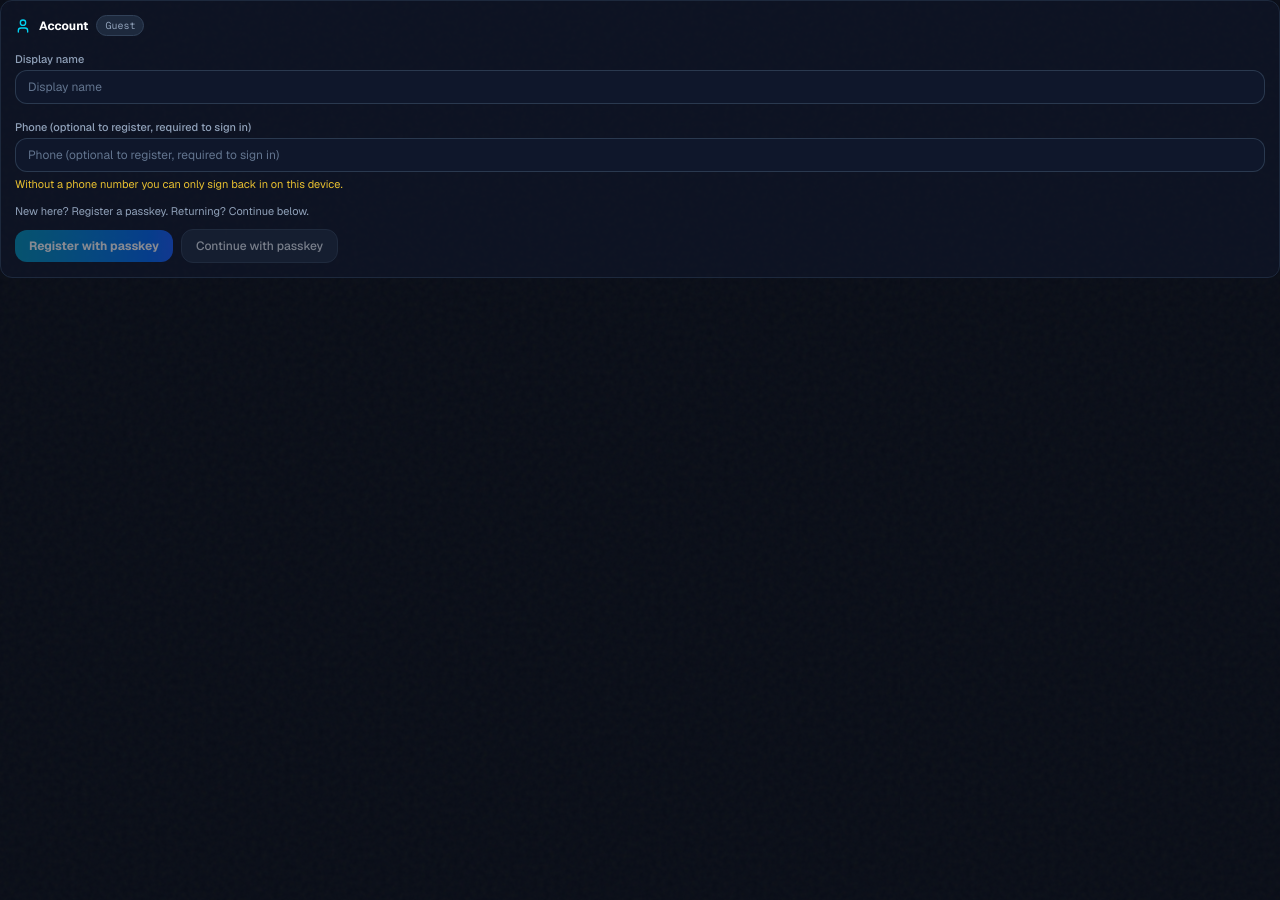
Test: account panel ceremony states › a stuck ceremony times out with next steps and releases the UI
Type "Uji" into the field labelled "Display name" at x=640, y=87, box [15,70,1265,104]
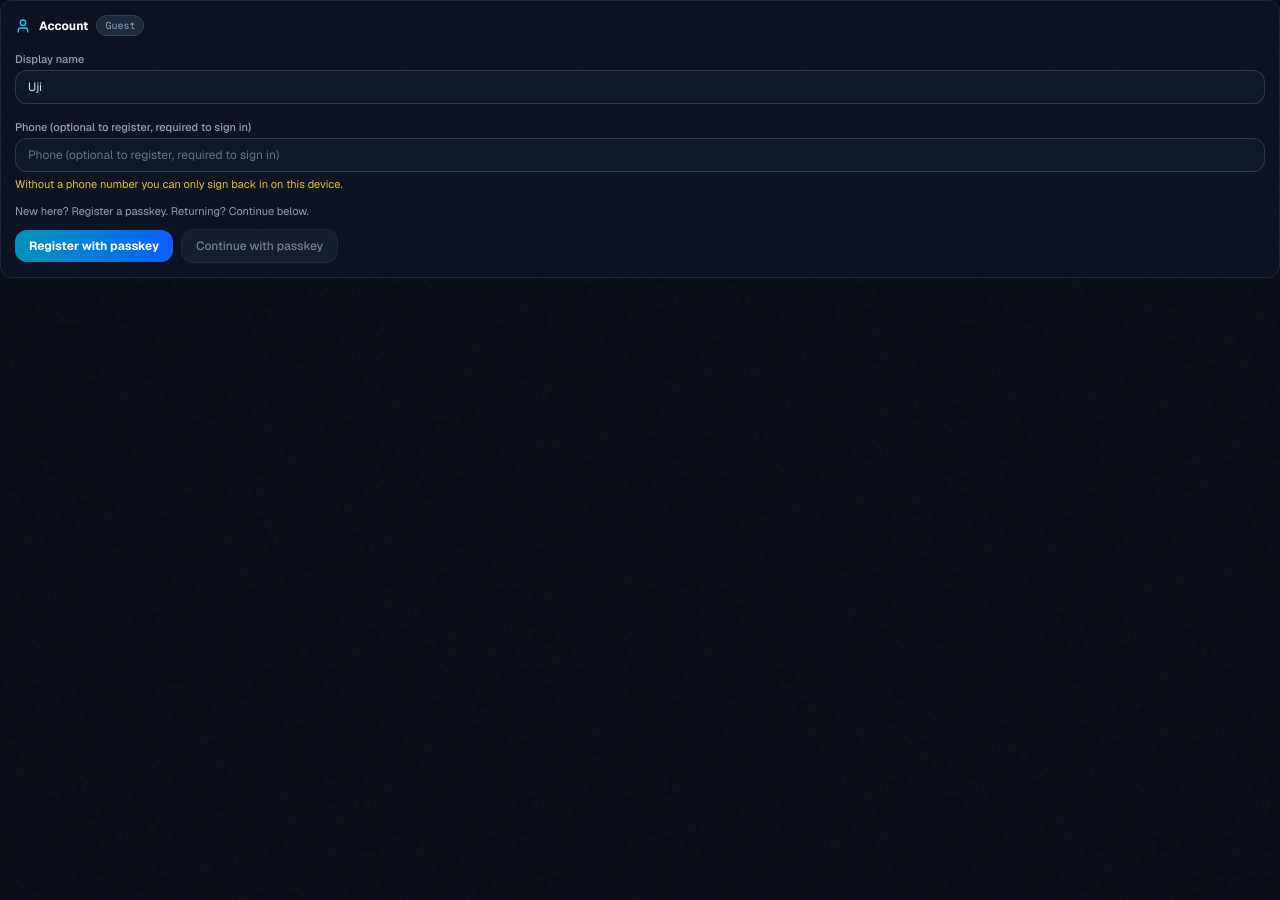
Type "081234567890" into the field labelled "Phone (optional to register, required to sign in)" at x=640, y=155, box [15,138,1265,172]
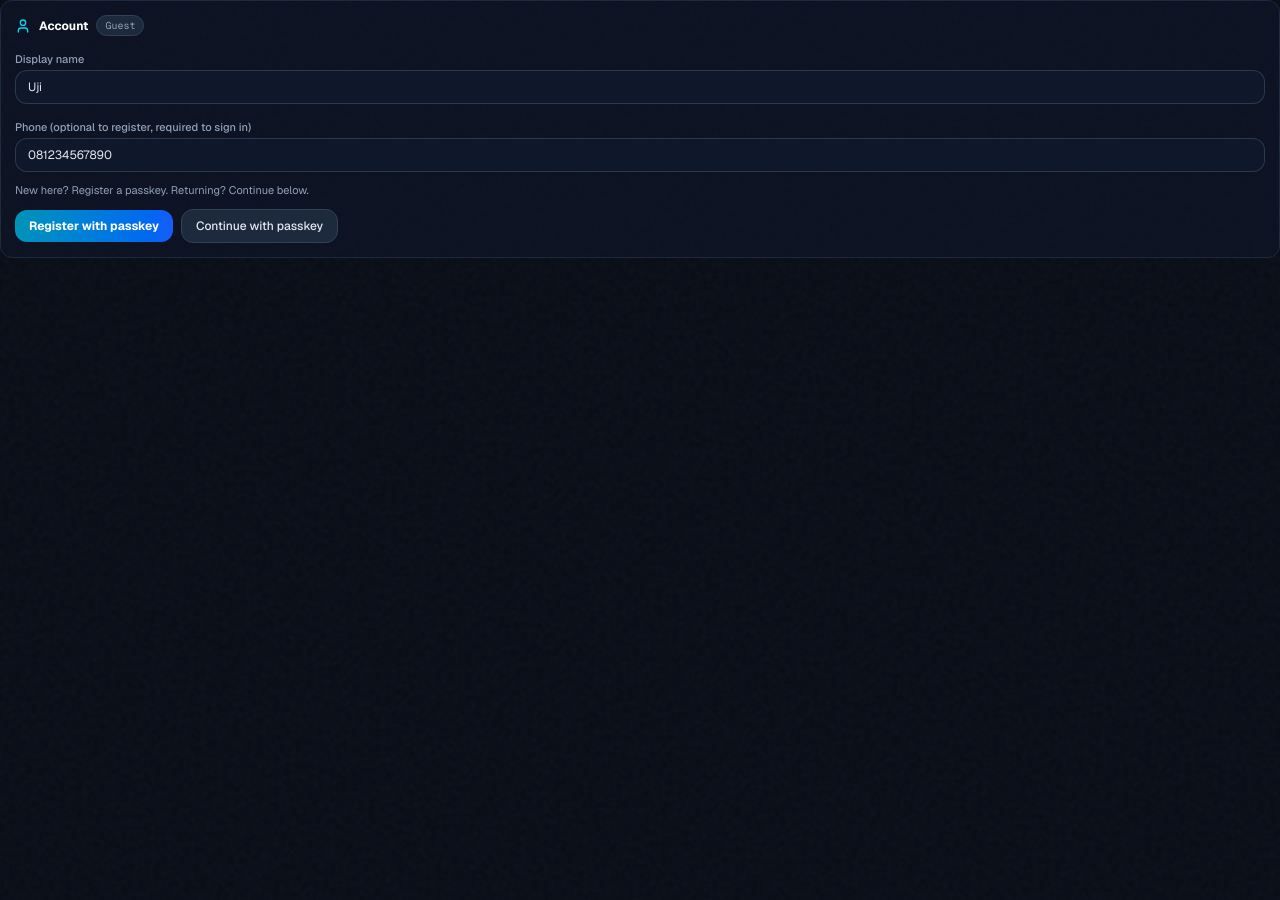
Click the button "Register with passkey" at x=94, y=226, box [15,210,173,242]
Wait 76000 ms
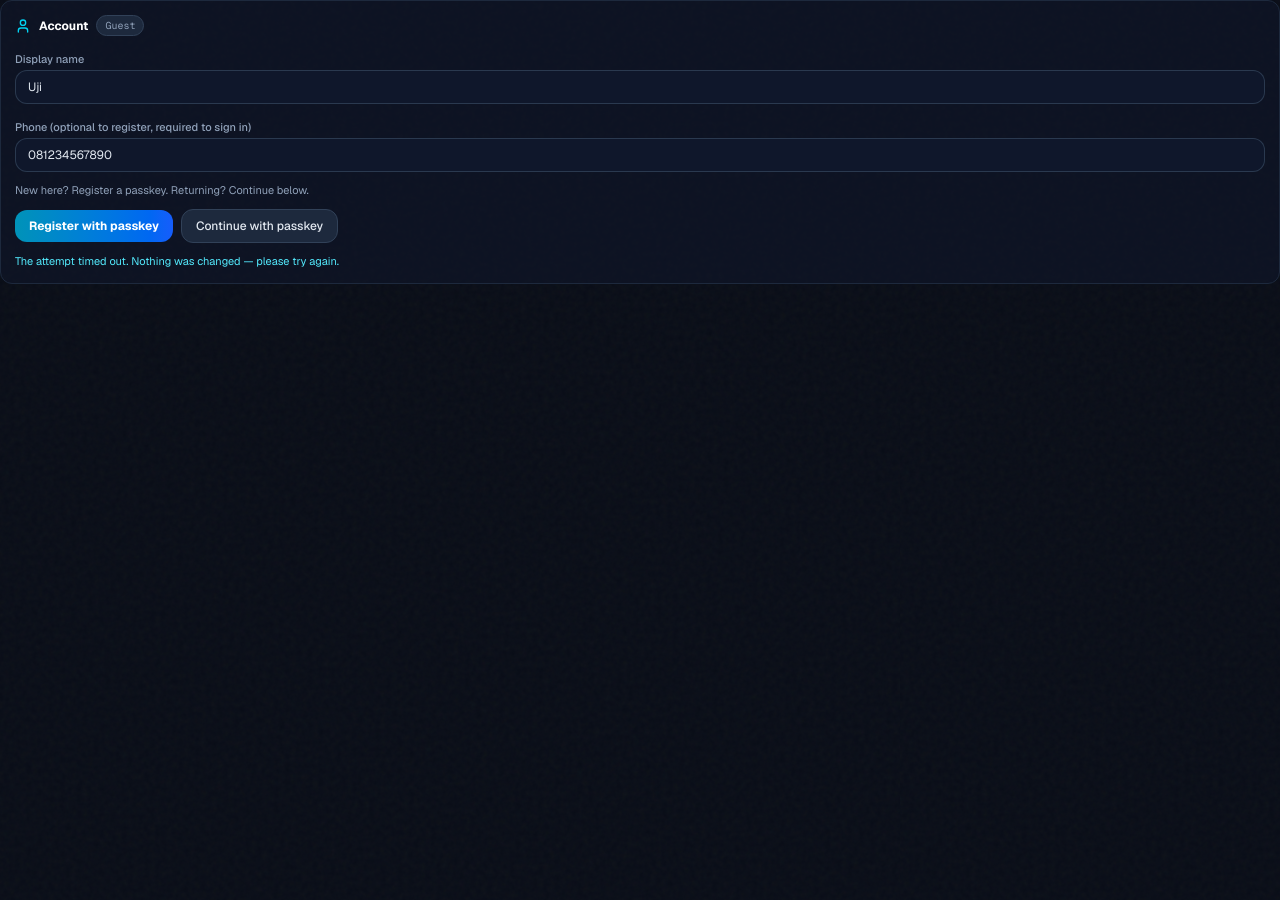
Result: the button "Register with passkey" is enabled at [15,210,173,242]
Result: the button "Continue with passkey" is enabled at [181,208,338,242]
Result: the text "The attempt timed out. Nothing was changed — please try again." is shown at [15,254,339,268]
